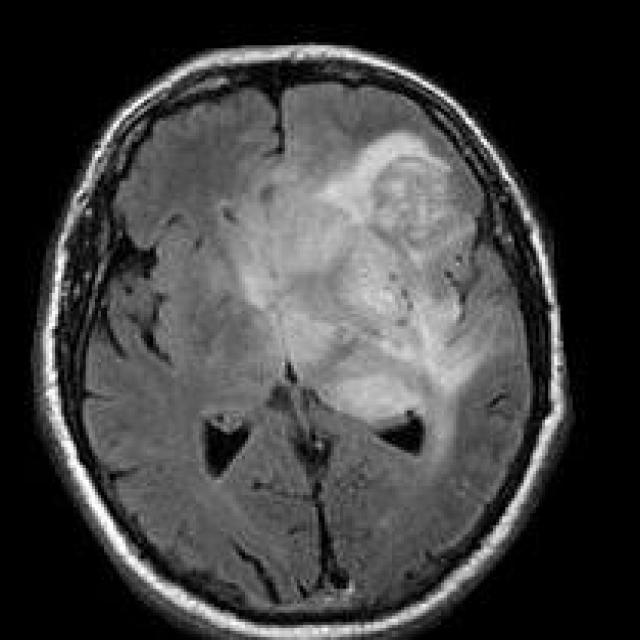Tumor-Cell: (303, 108, 472, 441)
